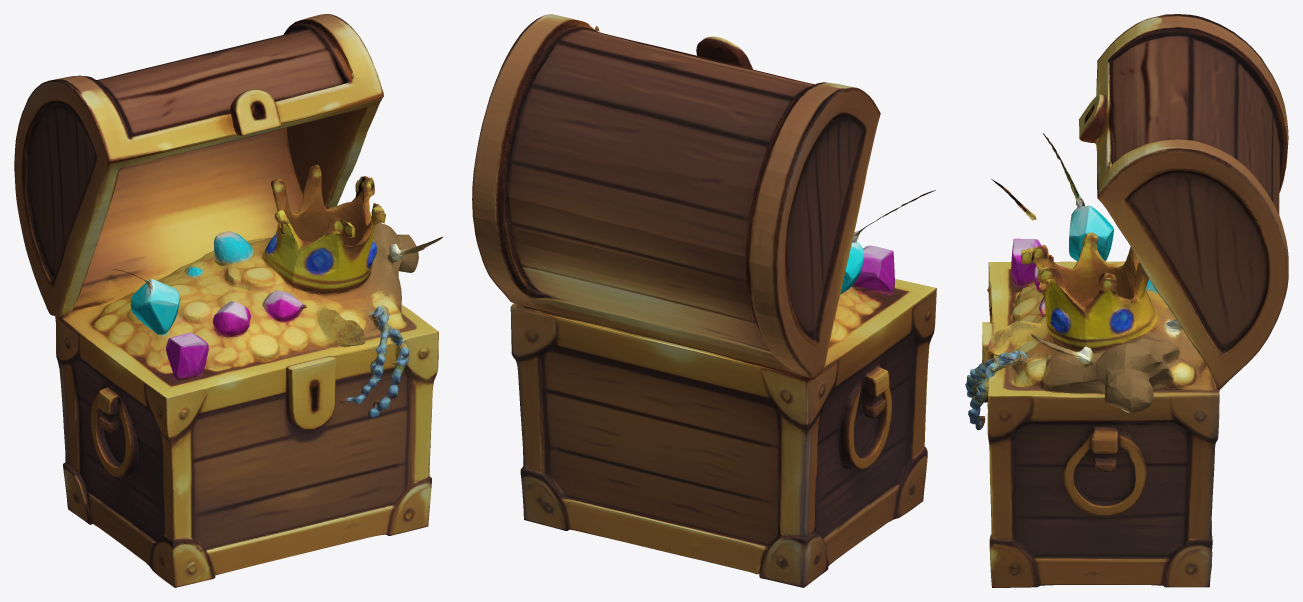
File: treasure.glb
3 renders of one model, left to right at view 1: azimuth 30°, elevation 25°; view 2: azimuth 150°, elevation 25°; view 3: azimuth 270°, elevation 25°, orthographic. The views are drawn at different scales.
Parts seen in each view (by area): view 1: world; view 2: world; view 3: world.
Boxes of the visible parts, x1,y1,x2,y2 form: world: (14,14,442,587); world: (472,14,936,587); world: (965,14,1288,587).
Size of the model in its own units: 0.6475 by 0.7823 by 0.5181.
Materials: 1 (1 with a texture image).
